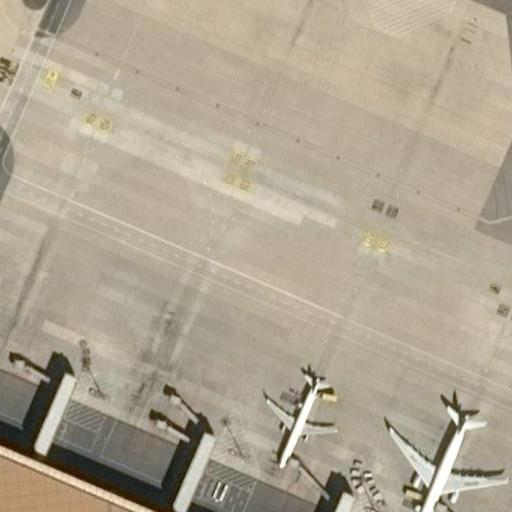Aircraft: (380, 388, 511, 512), (257, 369, 347, 470)
